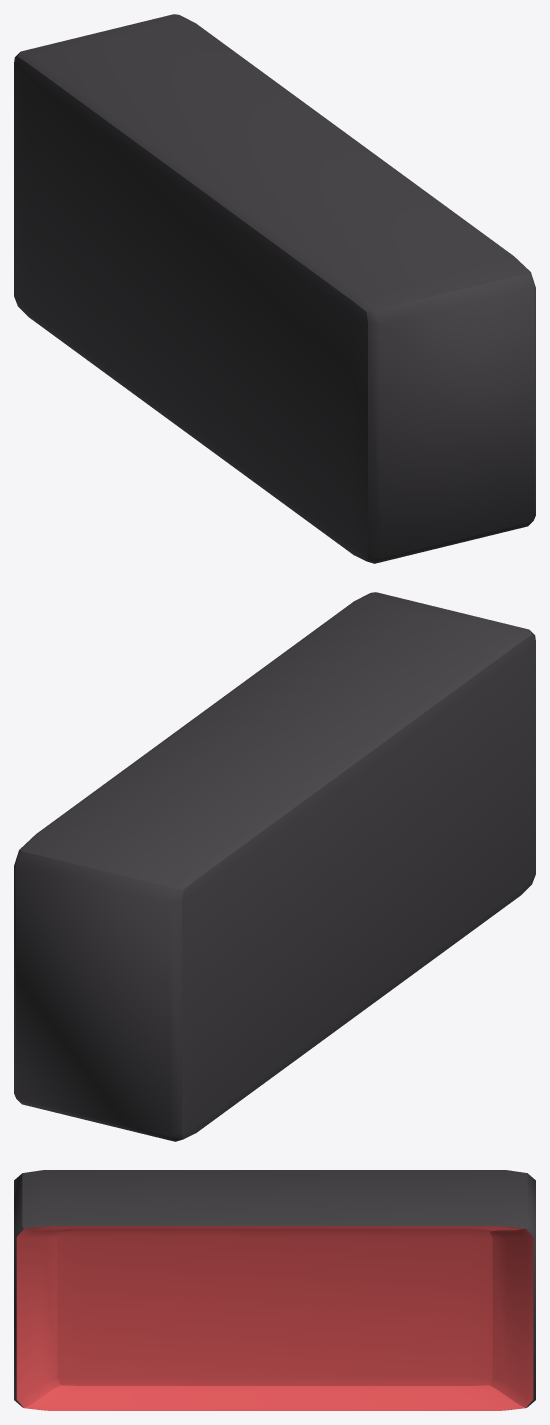
The model's file is Light.fbx.
3 renders of one model, top to bottom at view 1: azimuth 30°, elevation 25°; view 2: azimuth 150°, elevation 25°; view 3: azimuth 270°, elevation 25°, orthographic. The views are drawn at different scales.
Parts seen in each view (by area): view 1: Cube; view 2: Cube; view 3: Cube.
Part boxes in pixels (bbox=[...]): Cube: bbox=[14, 14, 535, 563]; Cube: bbox=[14, 592, 535, 1141]; Cube: bbox=[14, 1170, 535, 1410].
Size of the model in its own units: 52.71 by 200 by 78.88.
